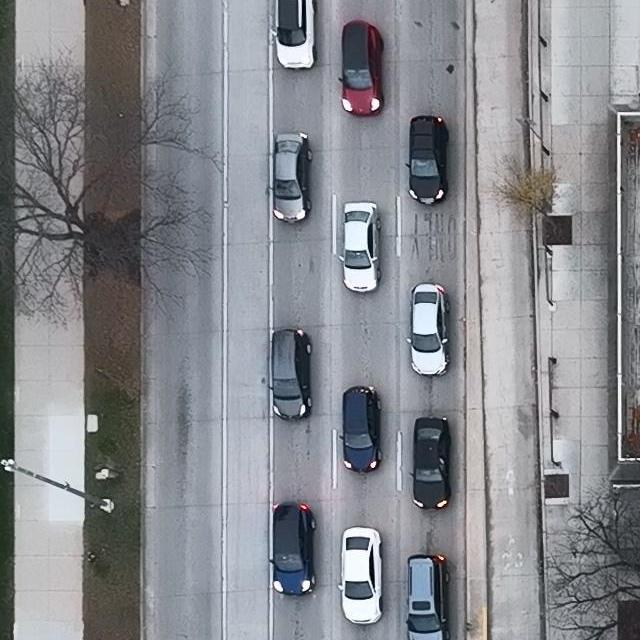car: (337, 527, 386, 626), (338, 19, 385, 116), (270, 500, 317, 595), (267, 132, 312, 225), (406, 282, 450, 377), (268, 328, 313, 420), (405, 114, 449, 205), (409, 417, 451, 511), (338, 202, 381, 293), (405, 554, 450, 640), (338, 386, 382, 472), (271, 0, 317, 70)
